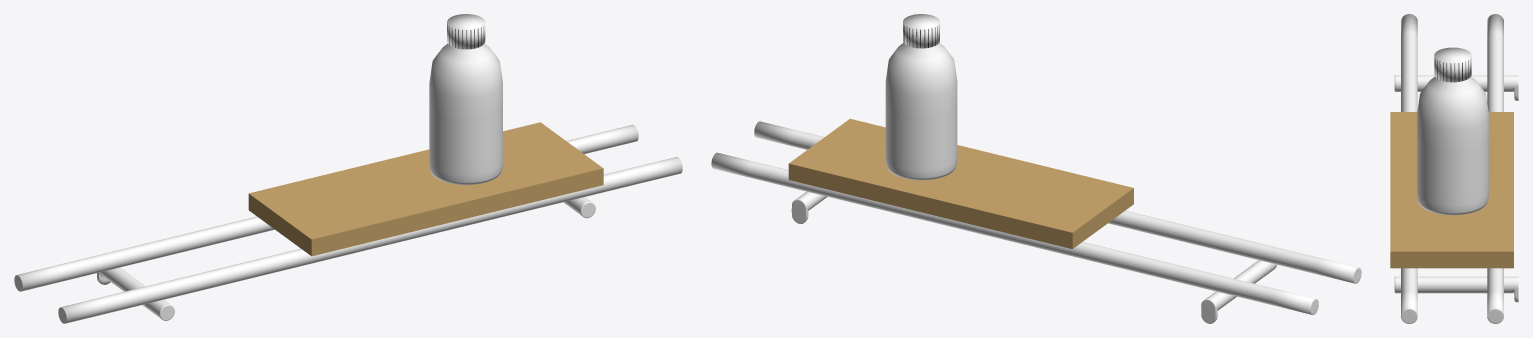
File: com_bath1.glb
3 views of the same model, side by side, from view 1: azimuth 30°, elevation 25°; view 2: azimuth 150°, elevation 25°; view 3: azimuth 270°, elevation 25° (orthographic). The views are drawn at different scales.
Visible parts, largest first — view 1: estanteria_madera_Cube.001, estanteria_metal_Cylinder.003, botella_jabon_liq_Cylinder, tap_jabon_liq_Cylinder.001; view 2: estanteria_madera_Cube.001, estanteria_metal_Cylinder.003, botella_jabon_liq_Cylinder, tap_jabon_liq_Cylinder.001; view 3: estanteria_madera_Cube.001, botella_jabon_liq_Cylinder, estanteria_metal_Cylinder.003, tap_jabon_liq_Cylinder.001.
Part boxes in pixels (box(x1,y1,x2,y2)): estanteria_madera_Cube.001: box(248, 122, 603, 256); estanteria_metal_Cylinder.003: box(14, 124, 682, 323); botella_jabon_liq_Cylinder: box(429, 43, 502, 184); tap_jabon_liq_Cylinder.001: box(447, 14, 485, 49); estanteria_madera_Cube.001: box(788, 118, 1133, 248); estanteria_metal_Cylinder.003: box(711, 121, 1361, 323); botella_jabon_liq_Cylinder: box(885, 43, 957, 180); tap_jabon_liq_Cylinder.001: box(903, 14, 939, 48); estanteria_madera_Cube.001: box(1390, 112, 1513, 268); botella_jabon_liq_Cylinder: box(1417, 76, 1488, 215); estanteria_metal_Cylinder.003: box(1394, 14, 1518, 323); tap_jabon_liq_Cylinder.001: box(1434, 47, 1471, 82).
Size of the model in its own units: 1.22 by 0.3885 by 0.2235.
5 materials, 2 textured.
